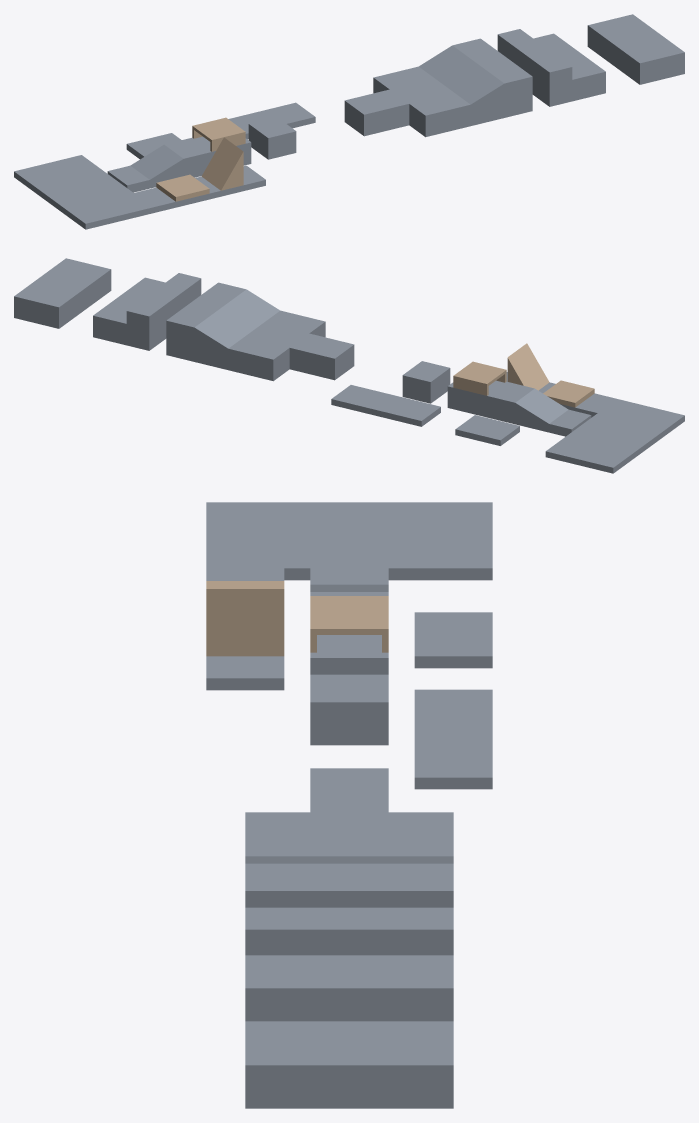
The model's file is course.glb.
The picture shows the model from 3 angles, top to bottom: view 1: azimuth 30°, elevation 25°; view 2: azimuth 150°, elevation 25°; view 3: azimuth 270°, elevation 25°; orthographic projection. The views are drawn at different scales.
Parts seen in each view (by area): view 1: floor, walls; view 2: floor, walls; view 3: floor, walls.
Boxes of the visible parts, box(x1,y1,x2,y2) form: floor: box(14, 14, 684, 229); walls: box(156, 117, 245, 201); floor: box(14, 258, 684, 473); walls: box(453, 343, 594, 407); floor: box(206, 502, 492, 1108); walls: box(206, 581, 388, 656).
Size of what is drawn, in the model's own units: 54 by 3.36 by 11.
